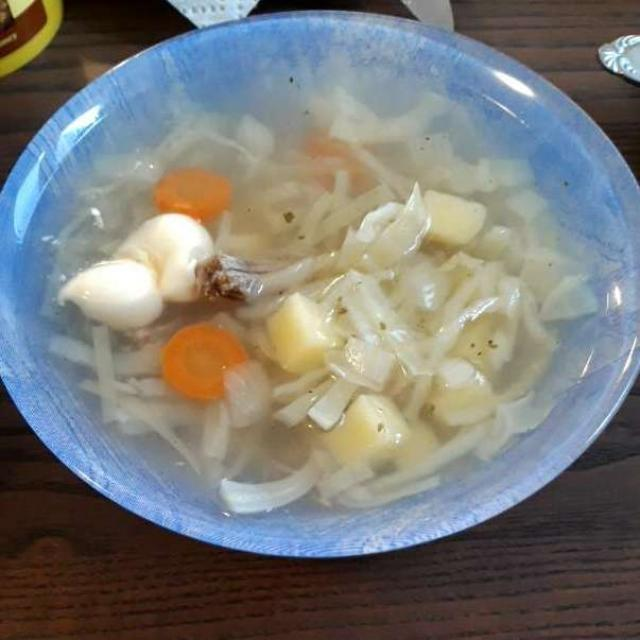beef: (197, 252, 306, 294)
mayonnaise: (51, 201, 224, 331)
potatoes: (262, 193, 491, 460)
soup: (50, 102, 589, 507)
